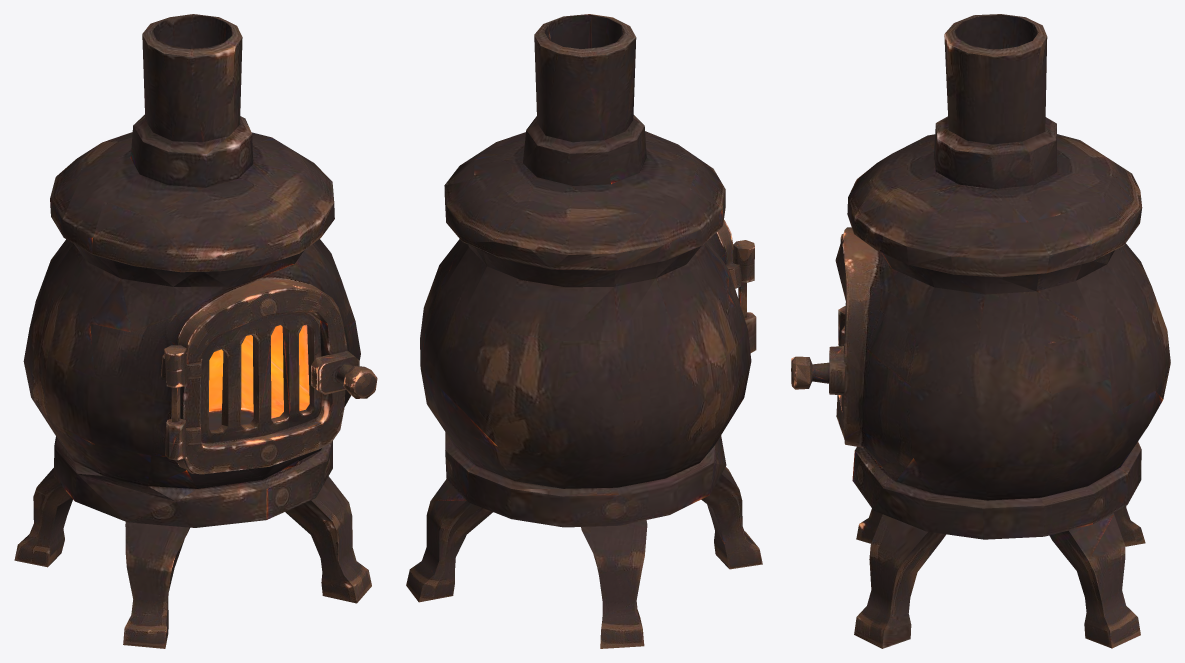
The model's file is radiator.glb.
The picture shows the model from 3 angles, left to right: view 1: azimuth 30°, elevation 25°; view 2: azimuth 150°, elevation 25°; view 3: azimuth 270°, elevation 25°; orthographic projection. The views are drawn at different scales.
Parts seen in each view (by area): view 1: GLTF; view 2: GLTF; view 3: GLTF.
Boxes of the visible parts, x1=… form: GLTF: x1=14, y1=14, x2=377, y2=648; GLTF: x1=406, y1=14, x2=762, y2=648; GLTF: x1=791, y1=14, x2=1170, y2=648.
Size of the model in its own units: 0.5635 by 0.9998 by 0.6188.
Materials: 1 (1 with a texture image).
